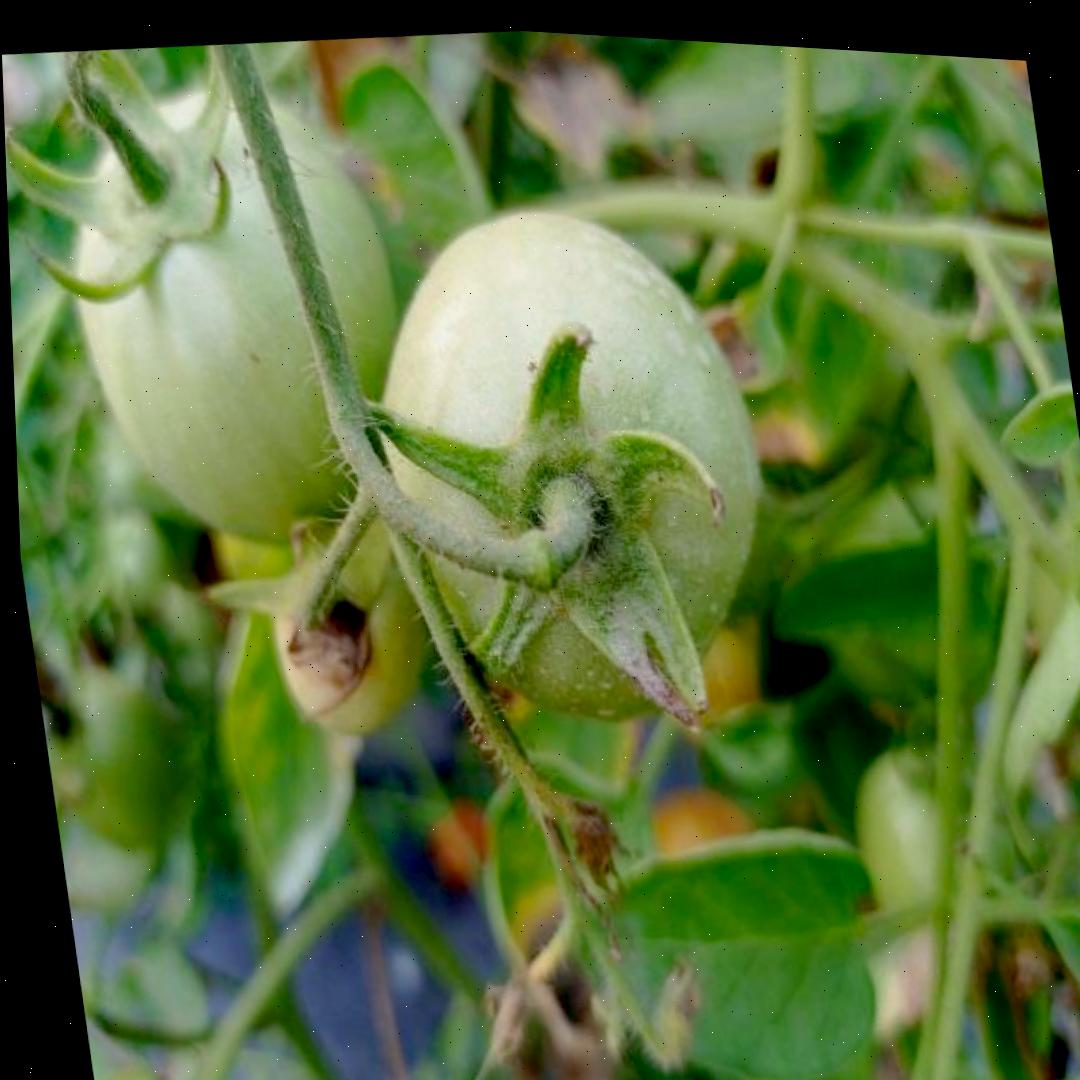mentah: (345, 181, 799, 752), (45, 63, 429, 571)
